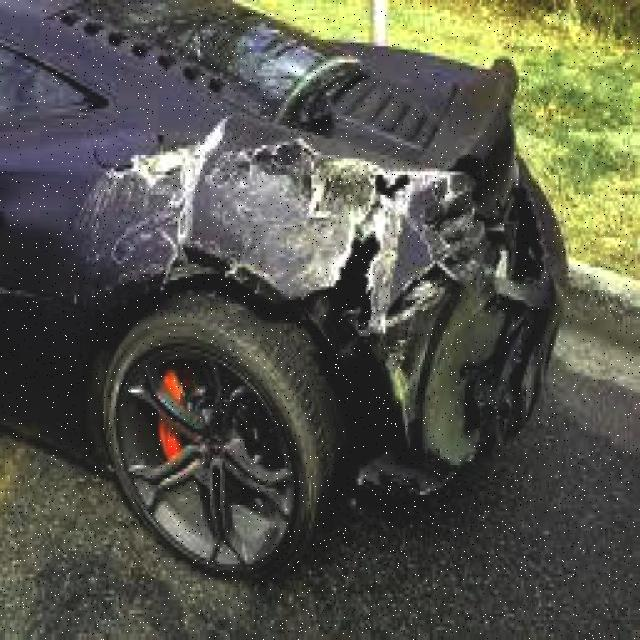car damage: (70, 112, 572, 510)
